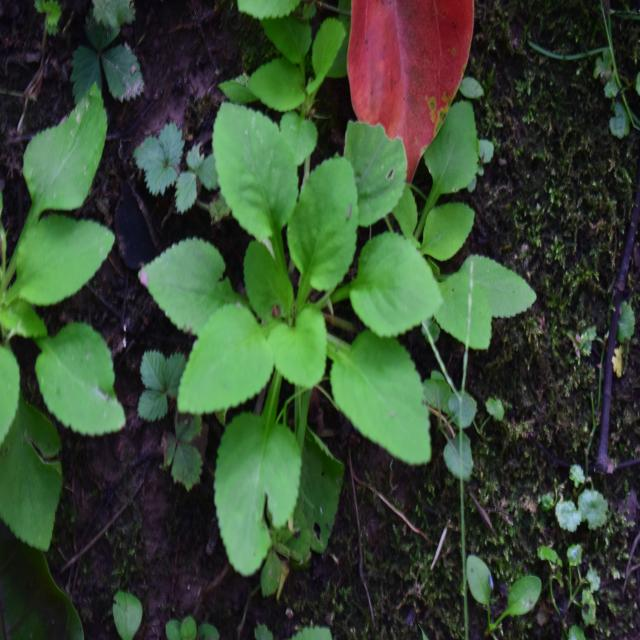Viola: (147, 107, 436, 537)
